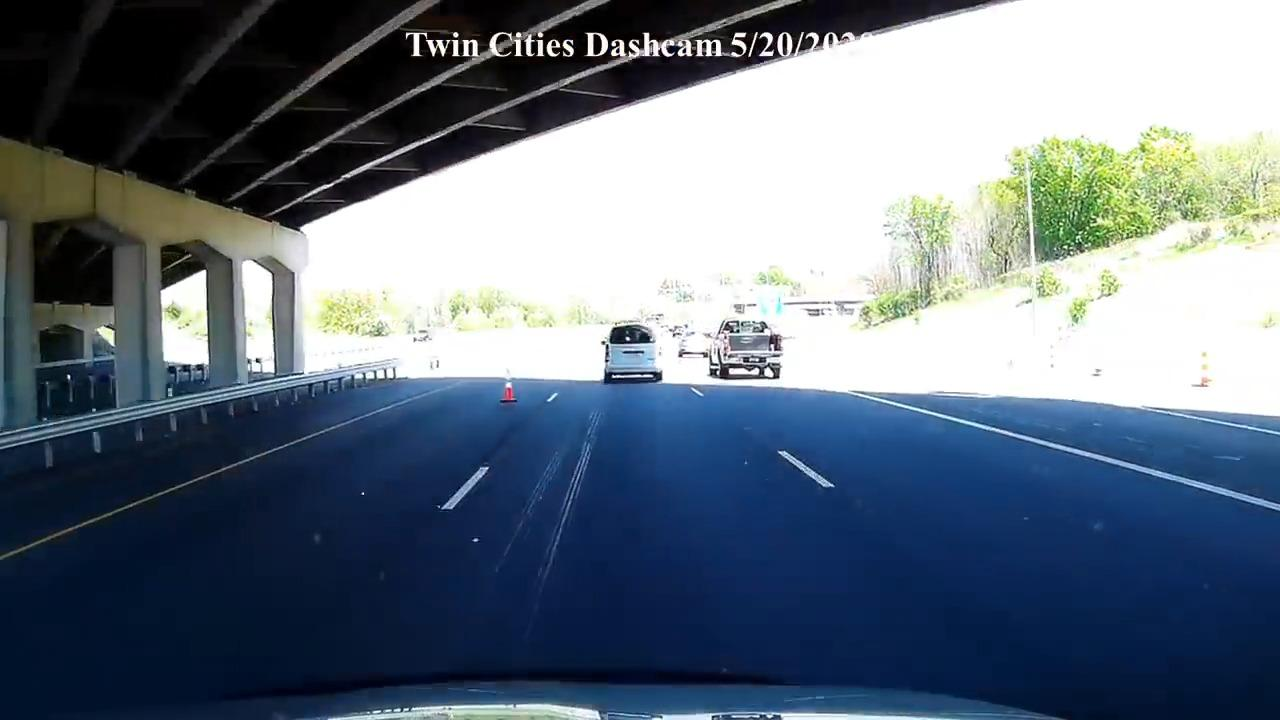car: (708, 318, 784, 380), (600, 323, 664, 384), (412, 331, 431, 343)
traffic cone: (1193, 350, 1214, 388), (499, 368, 518, 404)
